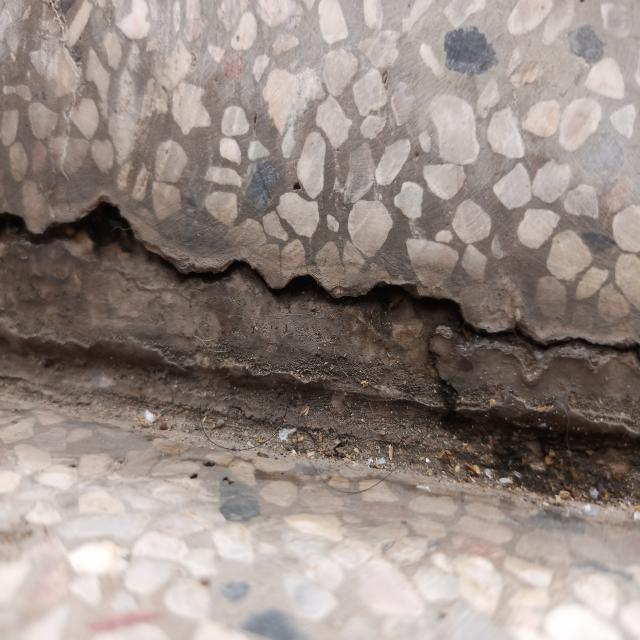horizontal crack: (0, 201, 639, 365)
